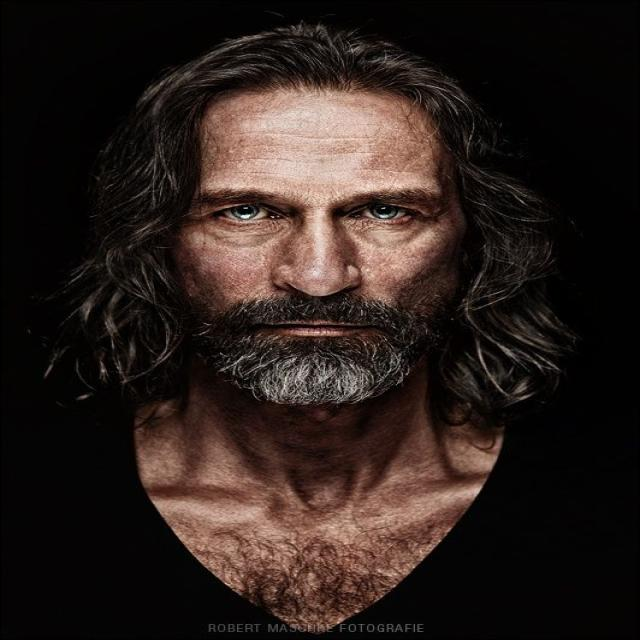front: (178, 154, 451, 376)
